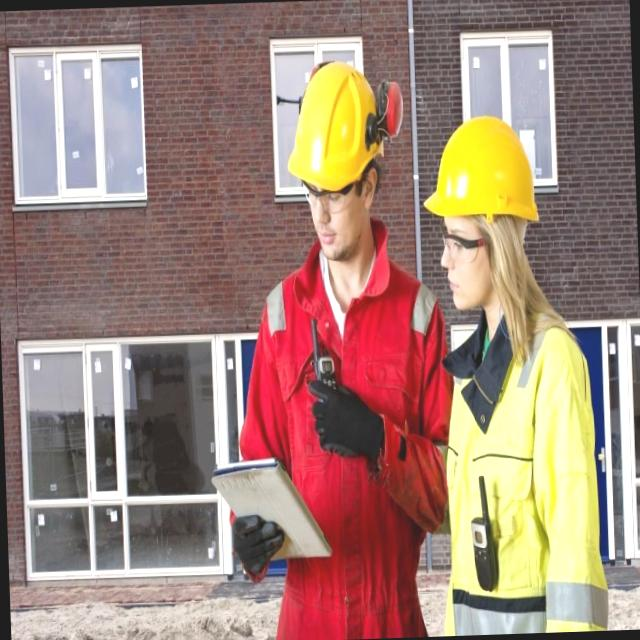helmet: (282, 56, 386, 195), (420, 109, 538, 224)
vest: (245, 249, 439, 640), (431, 315, 591, 636)
